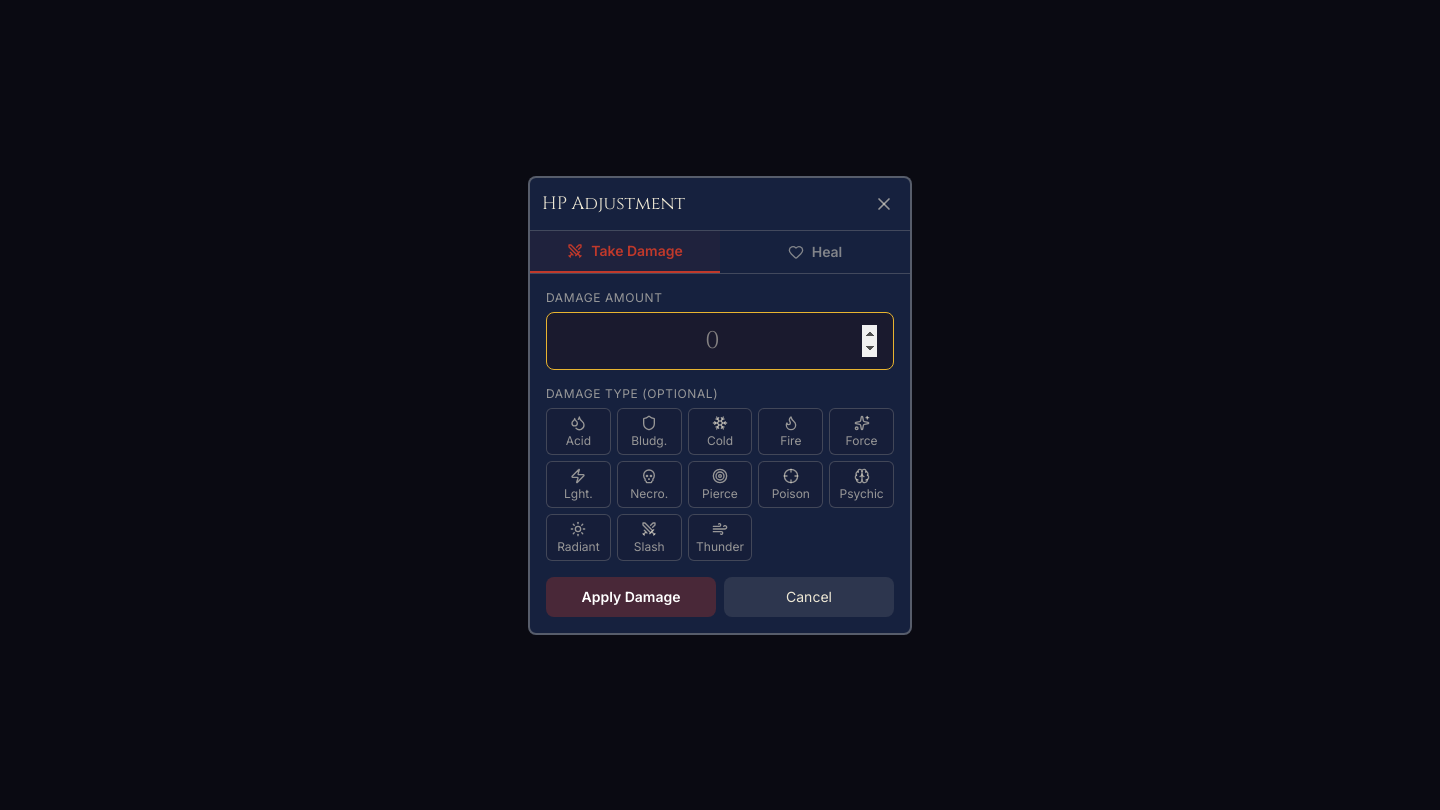
DamageHealModal › should show real-time damage preview
Type "7" into the number field with test id "hp-amount-input" at x=720, y=340, box [546,312,894,370]
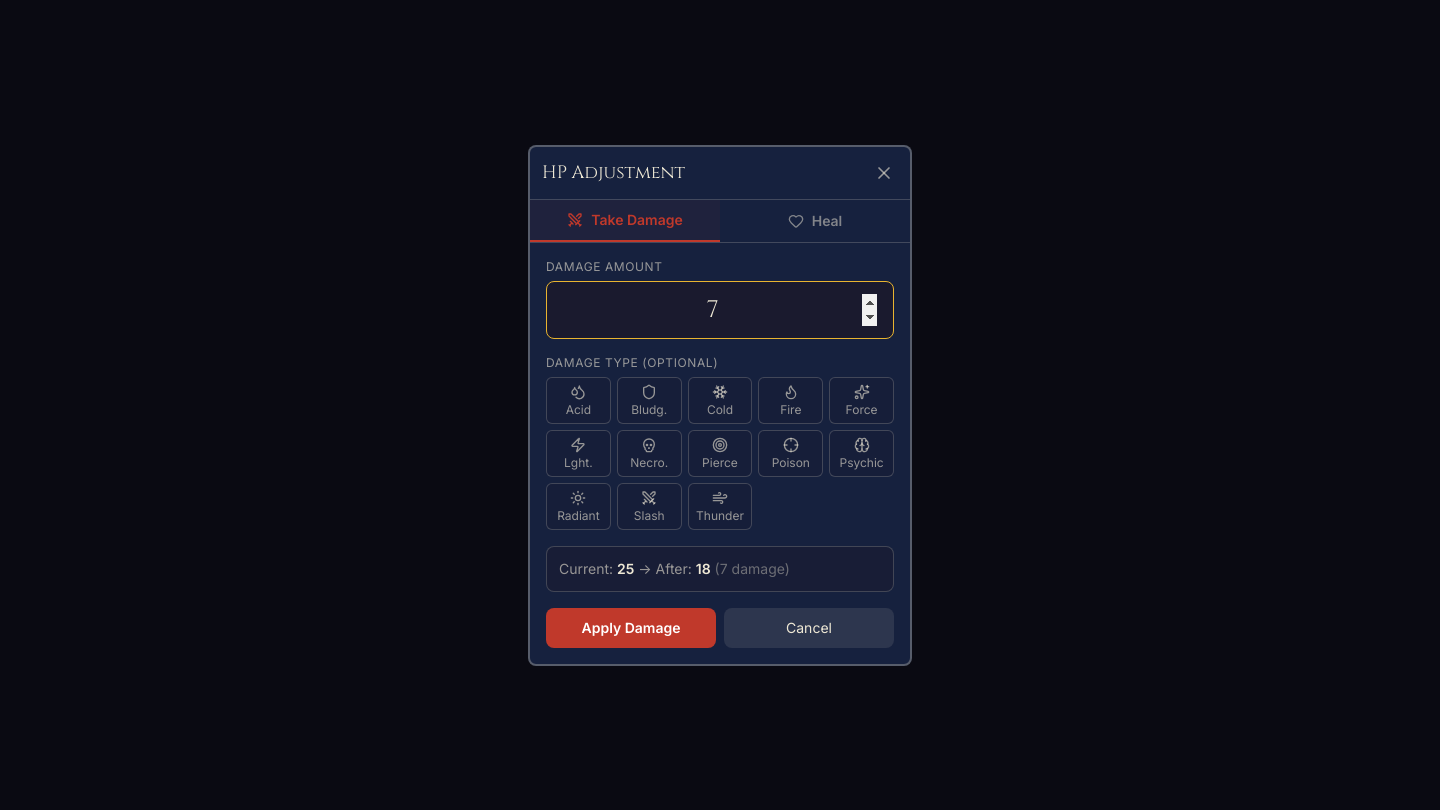
Now the element with test id "damage-preview" is shown, box [546,546,894,592]
Now the element with test id "damage-preview" shows "25", box [617,560,634,576]
Now the element with test id "damage-preview" shows "18", box [696,560,711,576]
